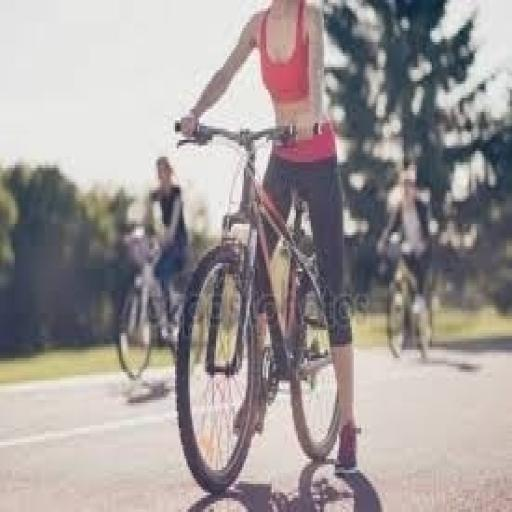cycling: (175, 0, 363, 481), (374, 156, 441, 364), (138, 151, 192, 347)
